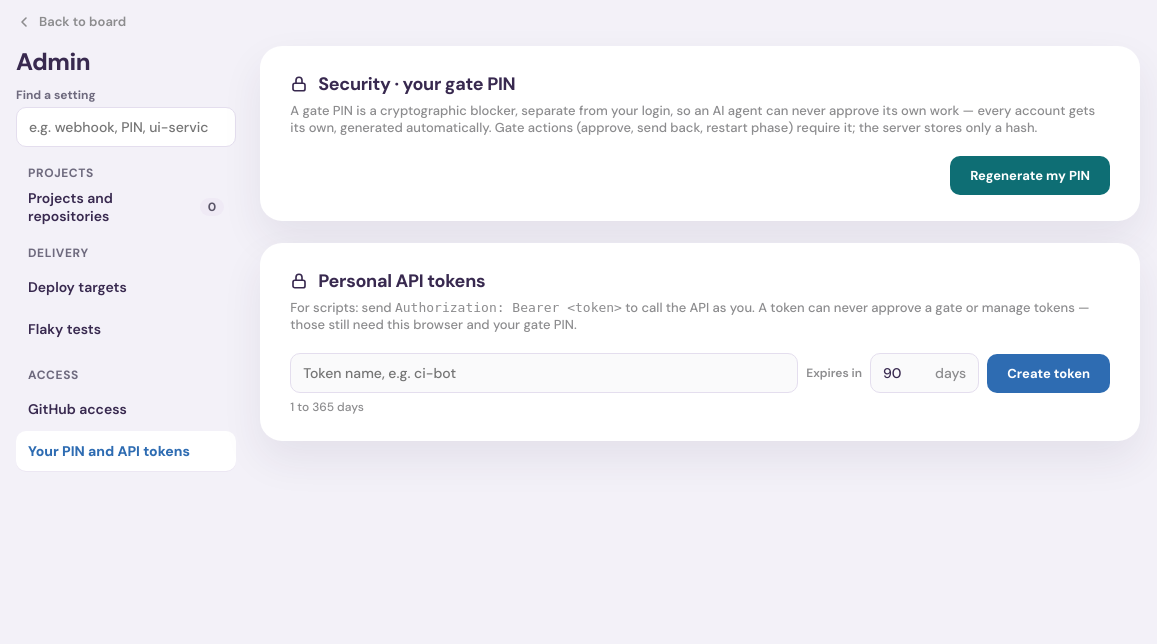
creating a token shows the raw value once; after Done only last4 remains, and nothing is stored
The image size is (1157, 644).
Type "ci-bot" into the field with placeholder "Token name, e.g. ci-bot". click: (544, 373)
box: [290,353,798,393]
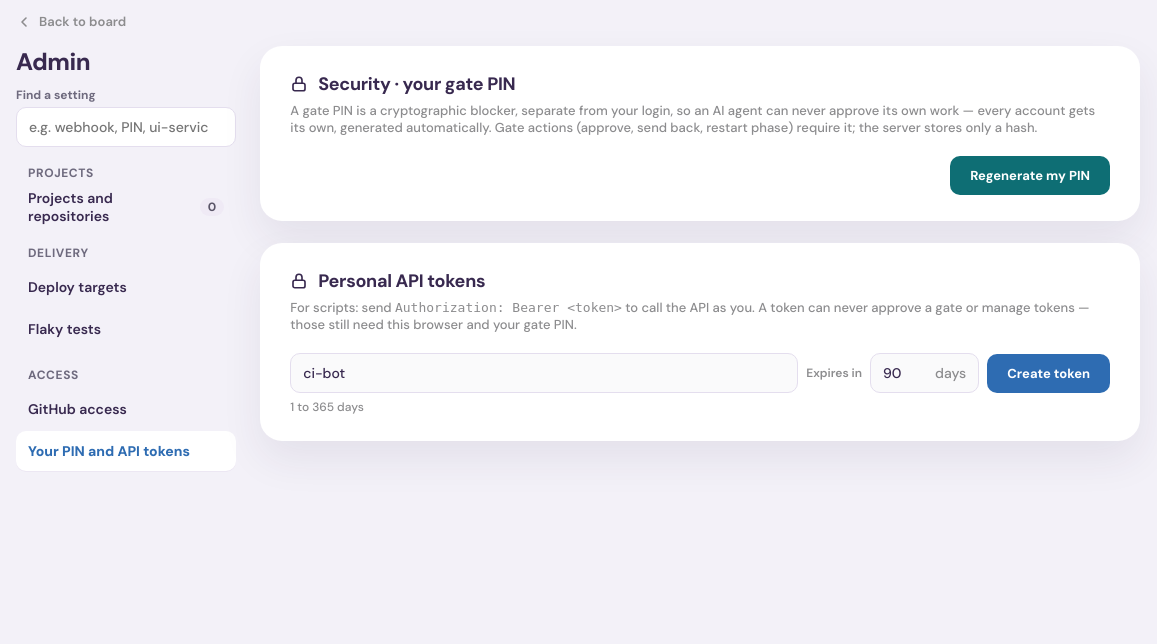
Replace the text in the number field named "Expires in days" with "30". click: (903, 373)
box: [871,354,935,392]
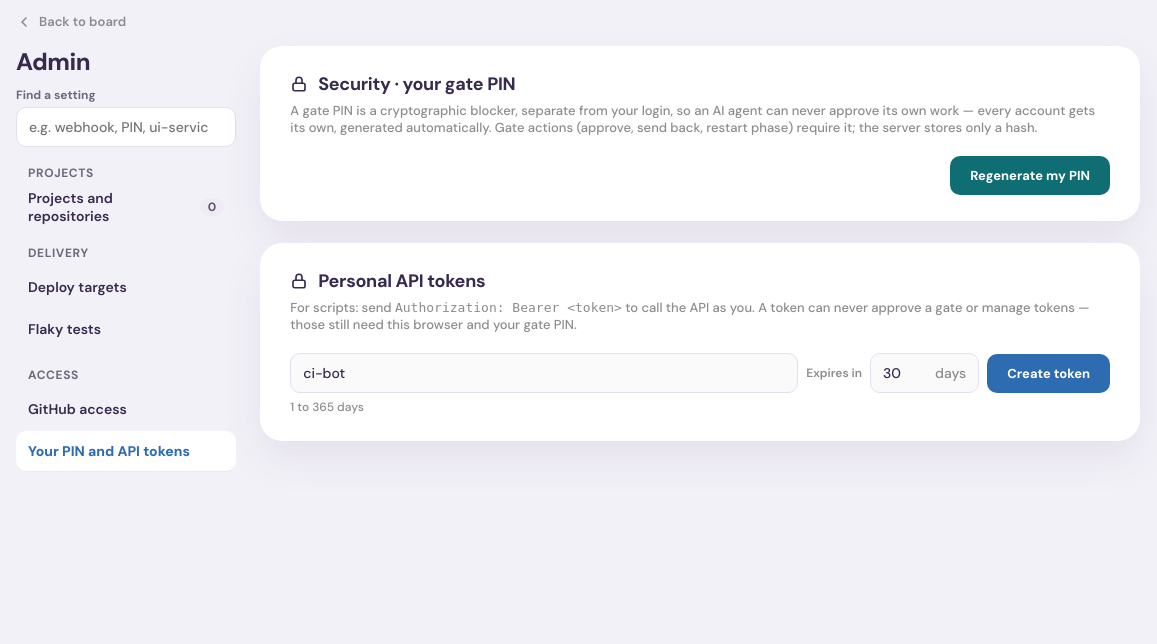
Click the button "Create token". click: (1049, 373)
box: [987,354,1110,392]
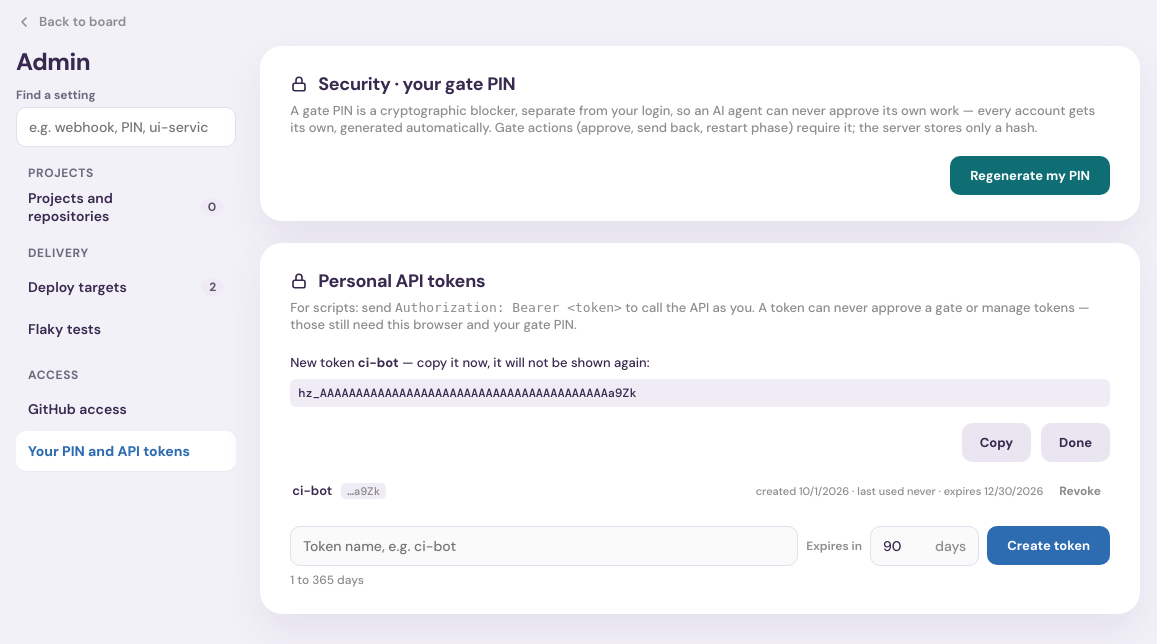
Expected: the text "hz_AAAAAAAAAAAAAAAAAAAAAAAAAAAAAAAAAAAAAAAAa9Zk" is shown, [290,378,1110,406]
Expected: the text "…a9Zk" is shown, [341,482,386,498]
Click the button "Done". click: (1076, 442)
box: [1041,422,1110,462]
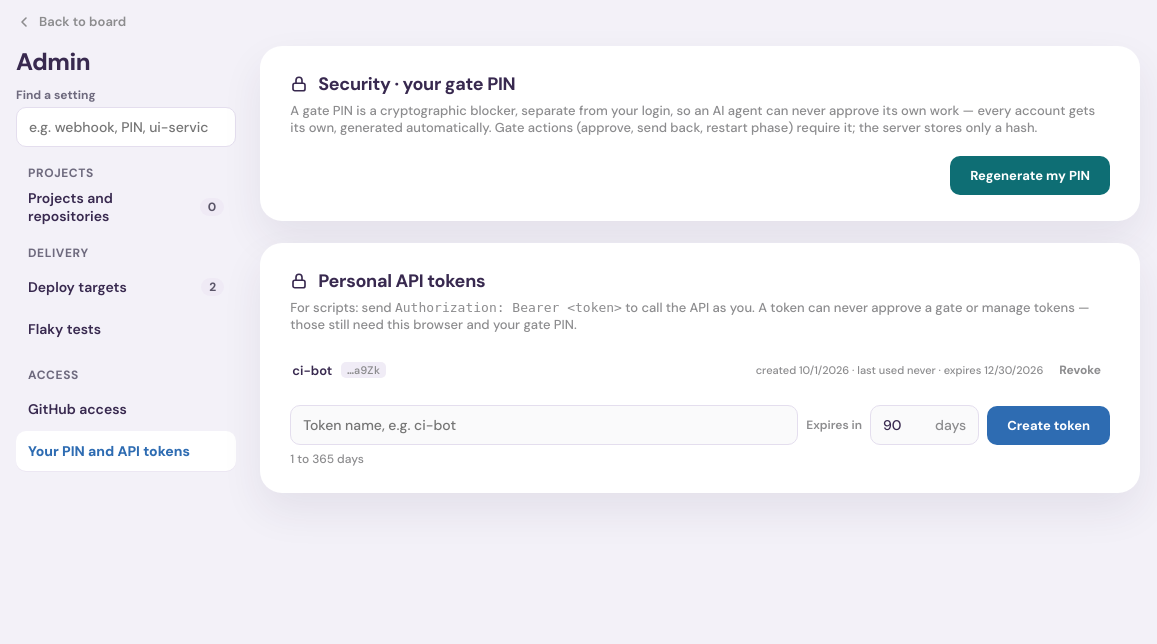
Expected: the text "ci-bot" is shown, [292,362,332,378]
Expected: the text "…a9Zk" is shown, [341,362,386,378]
Expected: the text "hz_AAAAAAAAAAAAAAAAAAAAAAAAAAAAAAAAAAAAAAAAa9Zk" is gone
